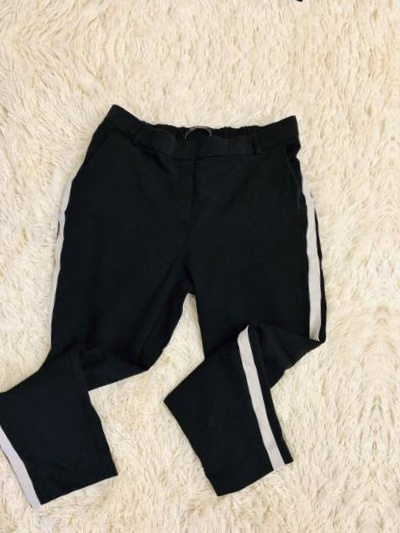Pants: (0, 83, 352, 519), (16, 0, 382, 19)
